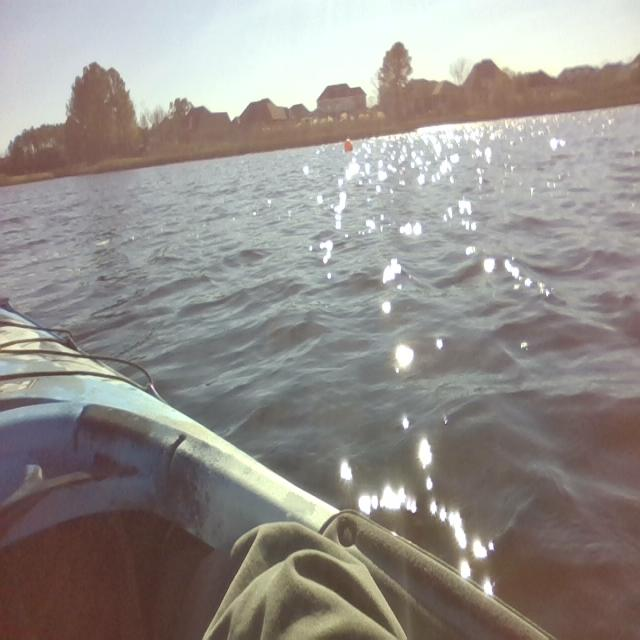Buoy: (337, 129, 360, 163)
